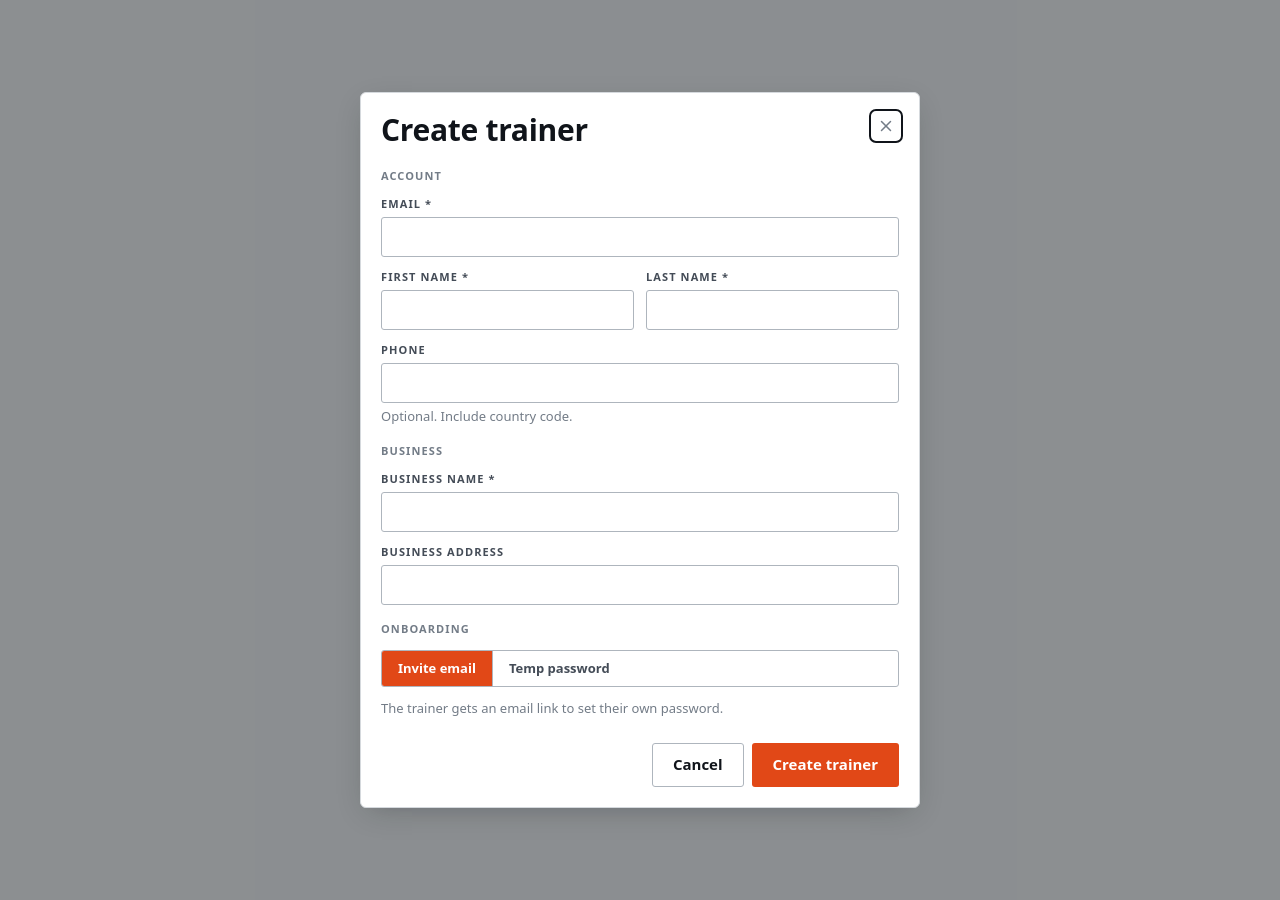
Test: CreateTrainerModal › validates required fields before submitting
Click the button "Create trainer" at (825, 765), box [752,743,899,787]
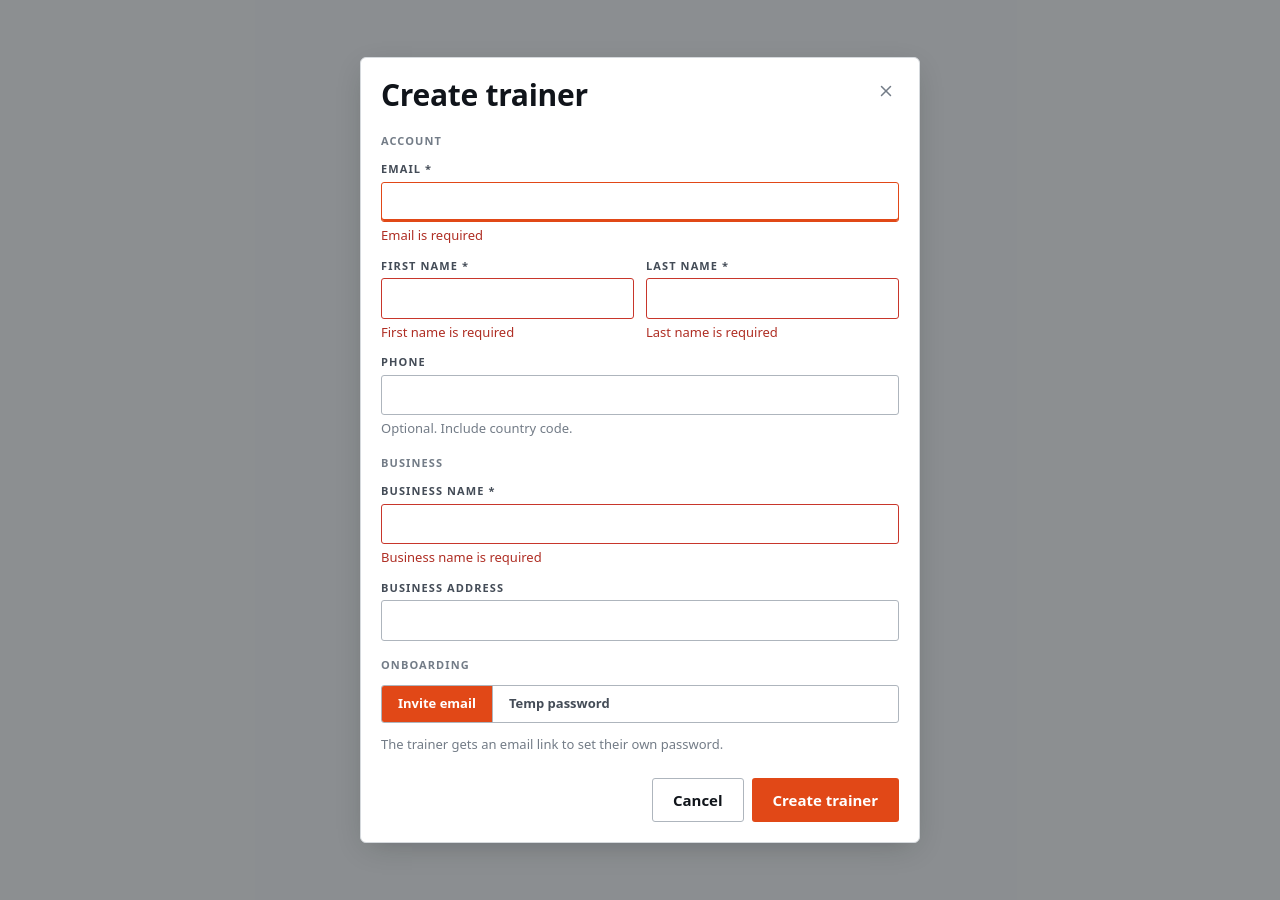
Expected: the text "Email is required" is shown, [381,226,483,244]
Expected: the text "Business name is required" is shown, [381,548,542,566]
